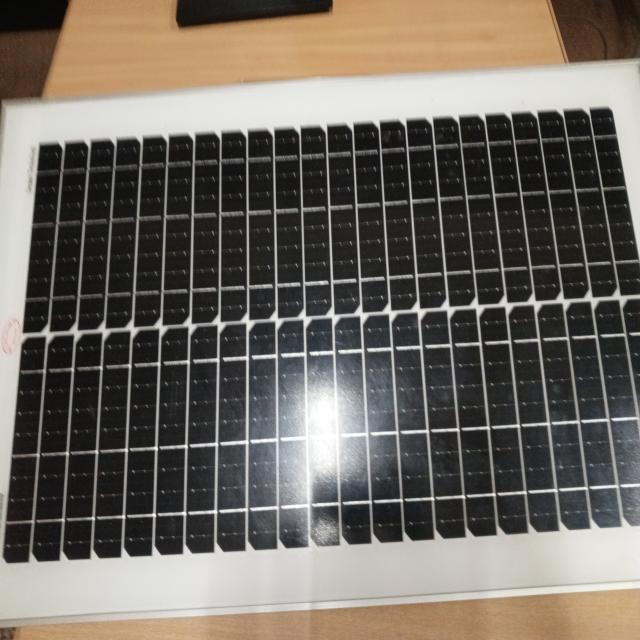Clean: (19, 118, 640, 550)
